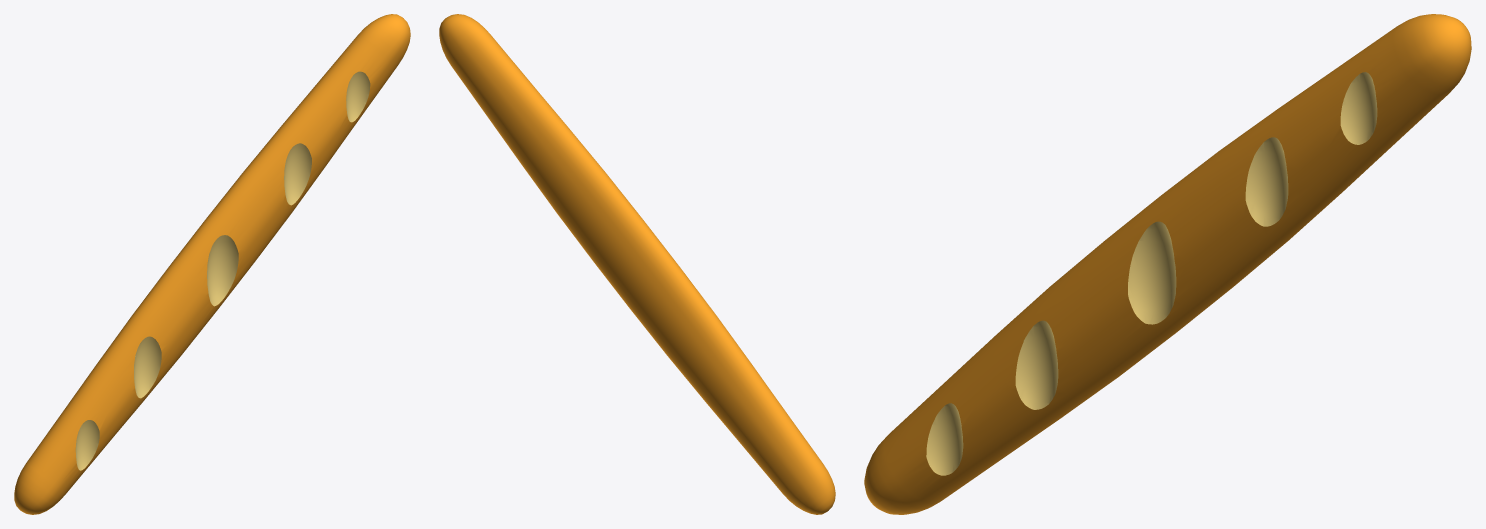
Rendered from baguette_bread.gltf.
3 views of the same model, side by side, from view 1: azimuth 30°, elevation 25°; view 2: azimuth 150°, elevation 25°; view 3: azimuth 330°, elevation 25° (orthographic). The views are drawn at different scales.
Visible parts, largest first — view 1: Cylinder.349; view 2: Cylinder.349; view 3: Cylinder.349.
Boxes of the visible parts, <box> form: Cylinder.349: <box>14,14,410,514</box>; Cylinder.349: <box>439,14,835,514</box>; Cylinder.349: <box>864,14,1471,514</box>.
Size of the model in its own units: 2.16 by 2.16 by 0.1997.
1 material, 1 textured.
